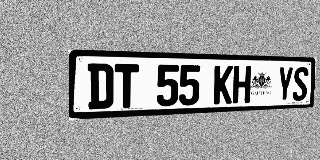5: (157, 64, 179, 107), (179, 65, 200, 106)
D: (88, 63, 114, 109)
H: (232, 66, 251, 103)
K: (213, 65, 233, 104)
S: (292, 67, 309, 101)
T: (114, 64, 139, 108)
Y: (276, 66, 294, 102)
